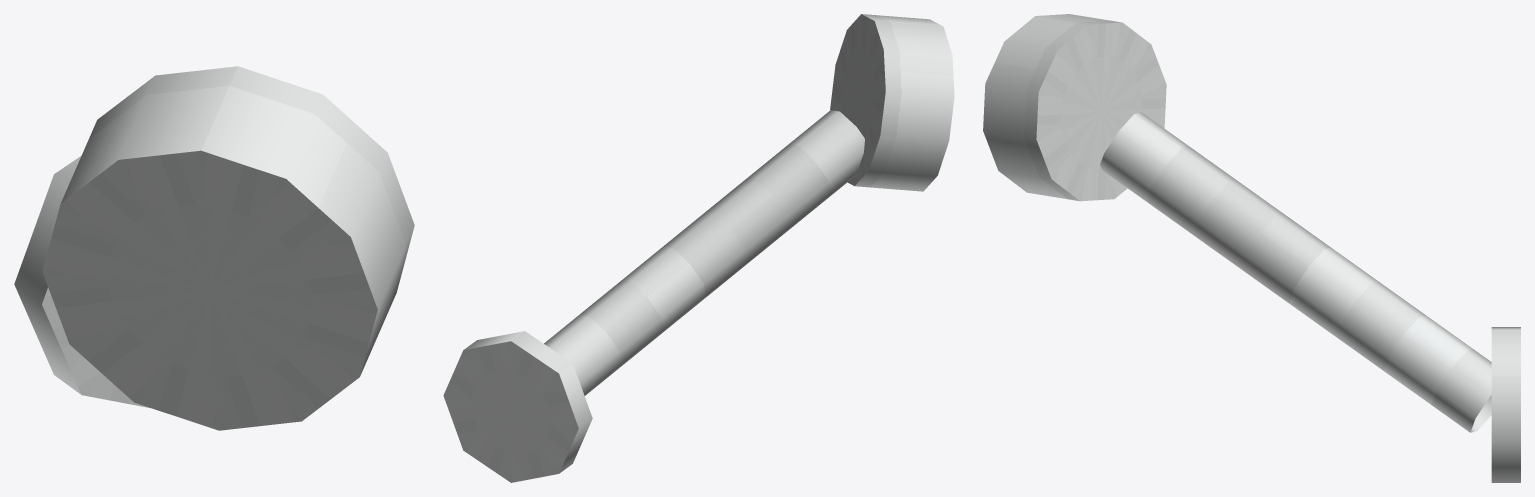
File: nycsignalarm_stub_152.obj
The picture shows the model from 3 angles, left to right: view 1: azimuth 30°, elevation 25°; view 2: azimuth 150°, elevation 25°; view 3: azimuth 270°, elevation 25°; orthographic projection. The views are drawn at different scales.
Visible parts, largest first — view 1: nycsignalarm_stub_152; view 2: nycsignalarm_stub_152; view 3: nycsignalarm_stub_152.
Part boxes in pixels (x1,y1,x2,y2): nycsignalarm_stub_152: (14, 66, 414, 430); nycsignalarm_stub_152: (443, 14, 954, 482); nycsignalarm_stub_152: (983, 14, 1520, 482).
Bounding box in the file's own units: 0.8099 × 0.8677 × 1.13.
